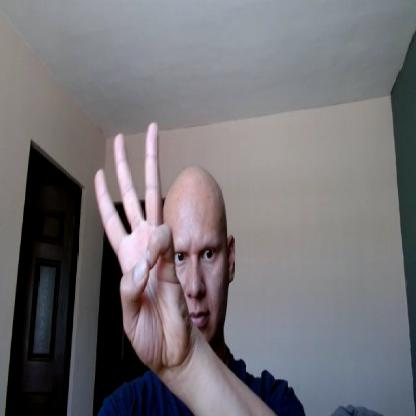W: (95, 122, 188, 369)
